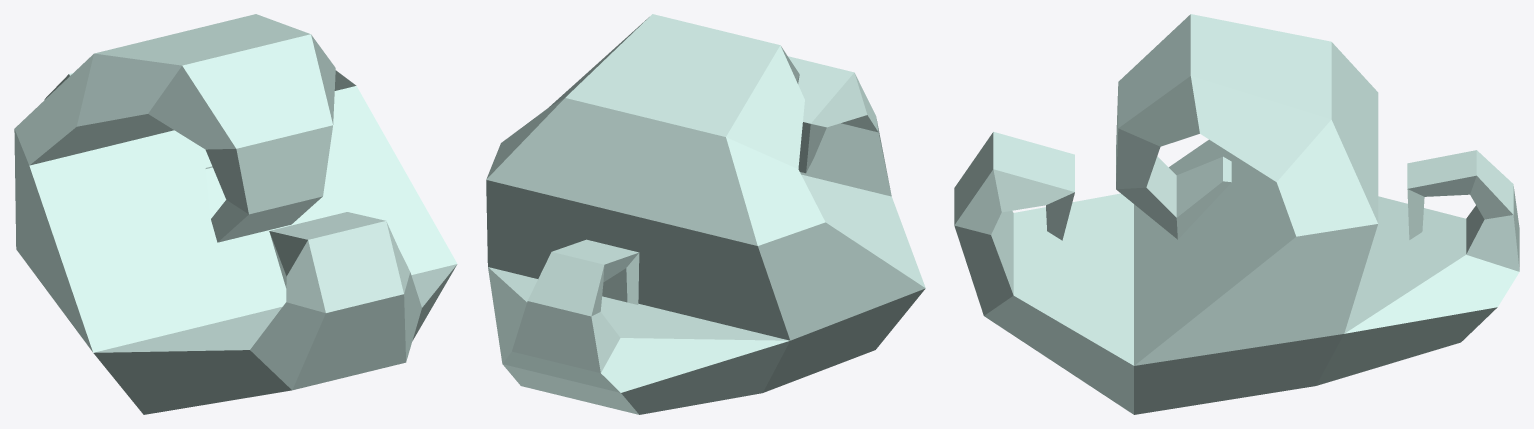
File: atmo-cloud01.fbx
3 views of the same model, side by side, from view 1: azimuth 30°, elevation 25°; view 2: azimuth 150°, elevation 25°; view 3: azimuth 270°, elevation 25° (orthographic).
Visible parts, largest first — view 1: Plane; view 2: Plane; view 3: Plane.
Part boxes in pixels (x1,y1,x2,y2): Plane: (14, 14, 457, 414); Plane: (486, 14, 925, 414); Plane: (954, 14, 1519, 414).
Bounding box in the file's own units: 234 × 192 × 320.
